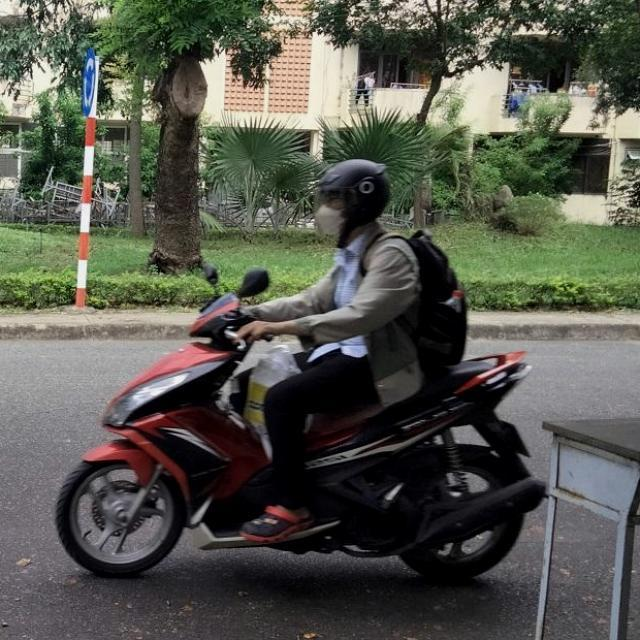Helmet: (308, 156, 392, 240)
